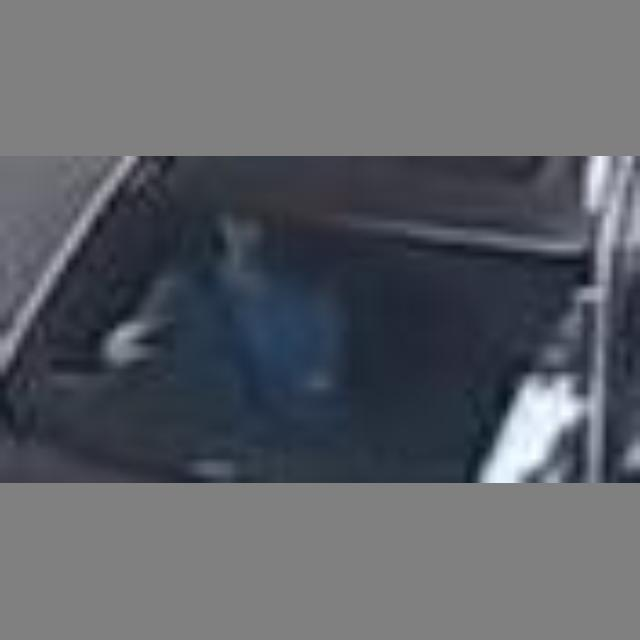pakai: (116, 229, 342, 396)
